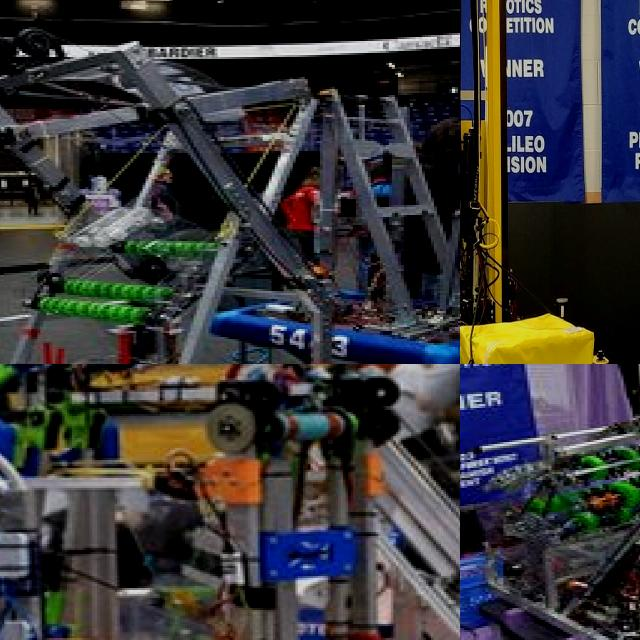FRC-Robots: (0, 54, 401, 364), (133, 364, 460, 640), (460, 364, 640, 640), (460, 0, 564, 364), (0, 364, 118, 640)
